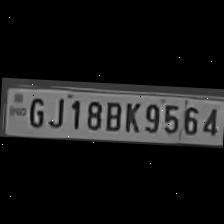1: (64, 96, 84, 130)
4: (198, 102, 220, 136)
5: (160, 99, 180, 134)
6: (179, 101, 199, 135)
8: (82, 96, 102, 132)
9: (140, 97, 160, 132)
B: (102, 96, 122, 130)
G: (24, 94, 46, 128)
J: (44, 92, 66, 128)
K: (120, 97, 142, 133)
